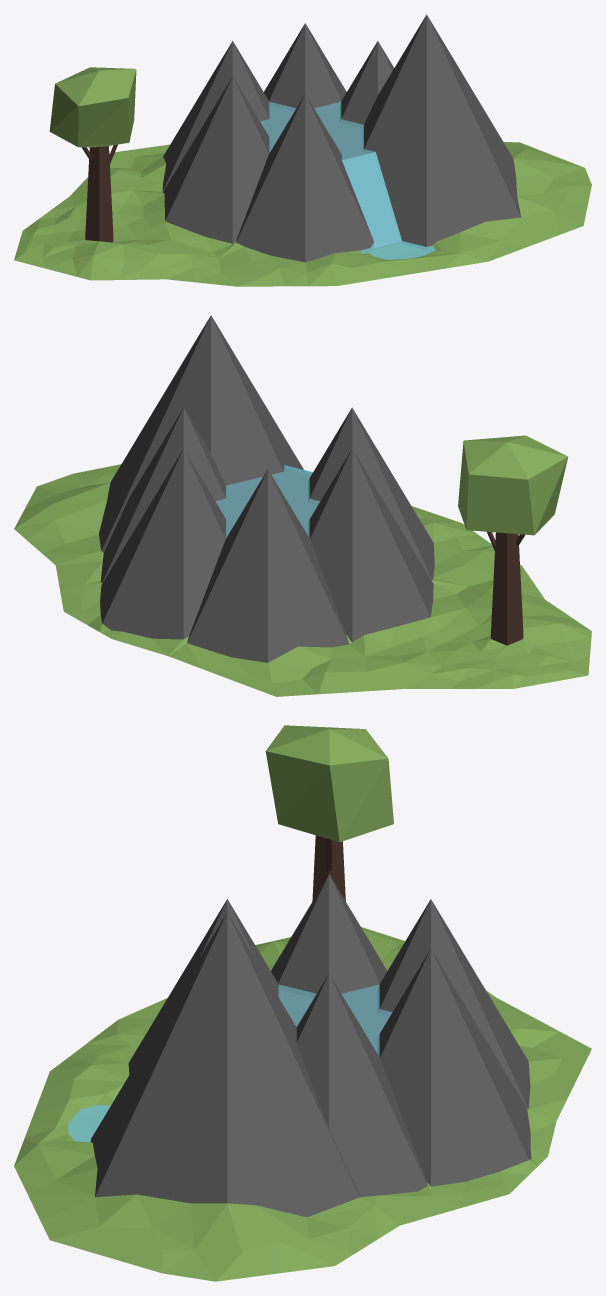
The model's file is Valley V3.dae.
3 views of the same model, one above another, from view 1: azimuth 30°, elevation 25°; view 2: azimuth 150°, elevation 25°; view 3: azimuth 270°, elevation 25° (orthographic). The views are drawn at different scales.
Parts seen in each view (by area): view 1: SketchUp (×8); view 2: SketchUp (×9); view 3: SketchUp (×9).
Boxes of the visible parts, box(x1,y1,x2,y2) form: SketchUp (×8): box(14, 14, 591, 286); SketchUp (×9): box(14, 315, 591, 696); SketchUp (×9): box(14, 725, 591, 1281).
Bounding box in the file's own units: 576 × 393 × 198.
